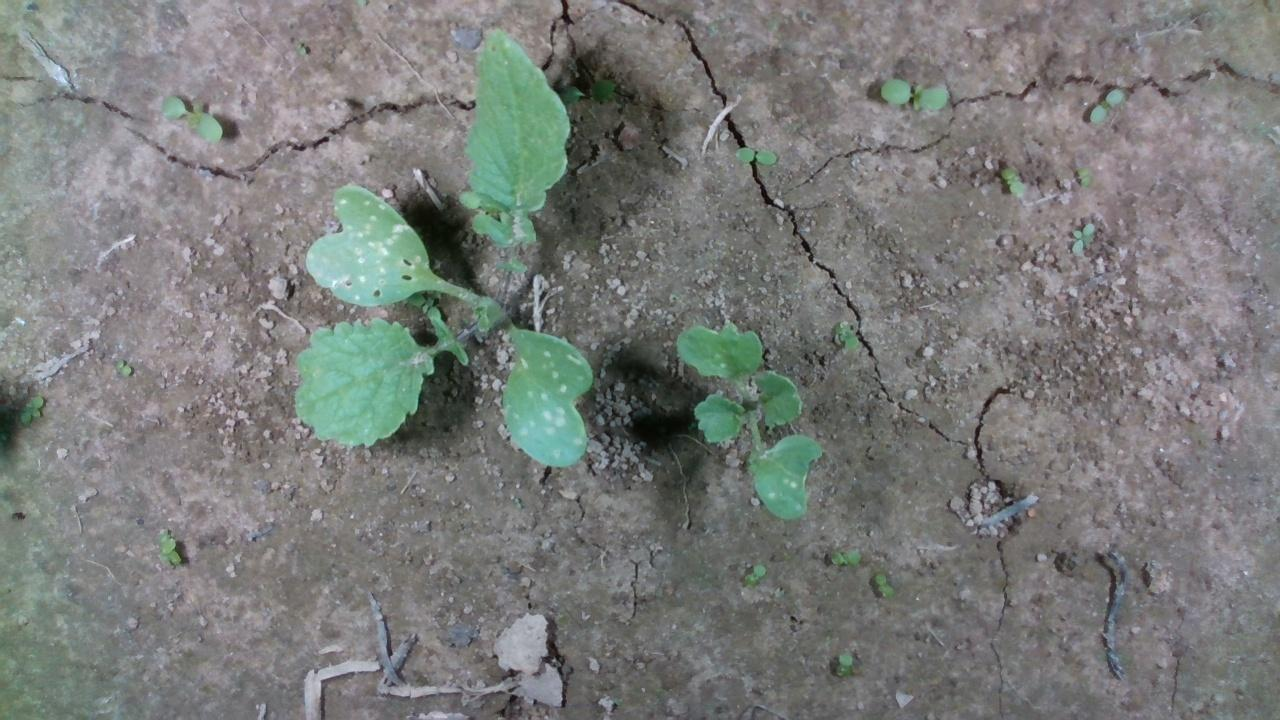weed: (879, 64, 967, 112), (153, 96, 224, 148), (143, 527, 188, 572), (731, 140, 795, 171), (1082, 76, 1123, 116), (1066, 214, 1093, 271), (829, 318, 863, 361), (869, 569, 910, 600), (827, 652, 863, 680), (732, 558, 772, 582), (825, 541, 851, 577), (116, 352, 141, 380)
